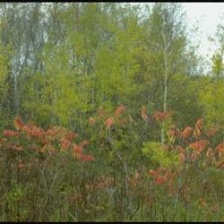neutral: (2, 5, 224, 221)
